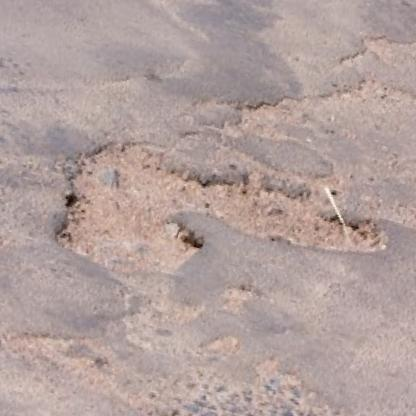pothole: (53, 137, 382, 323)
